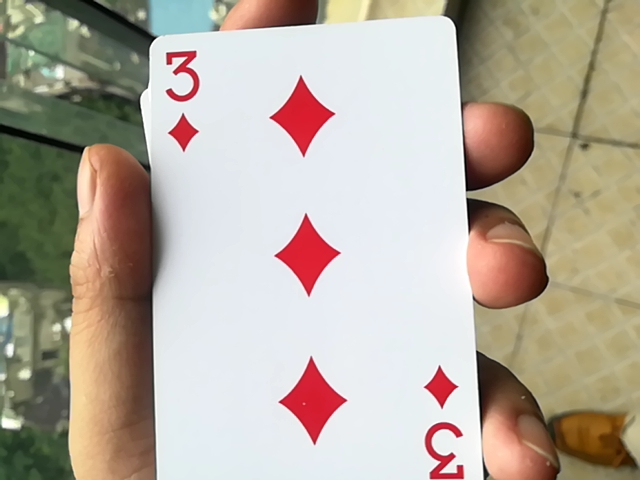fk 3: (117, 17, 488, 474)
